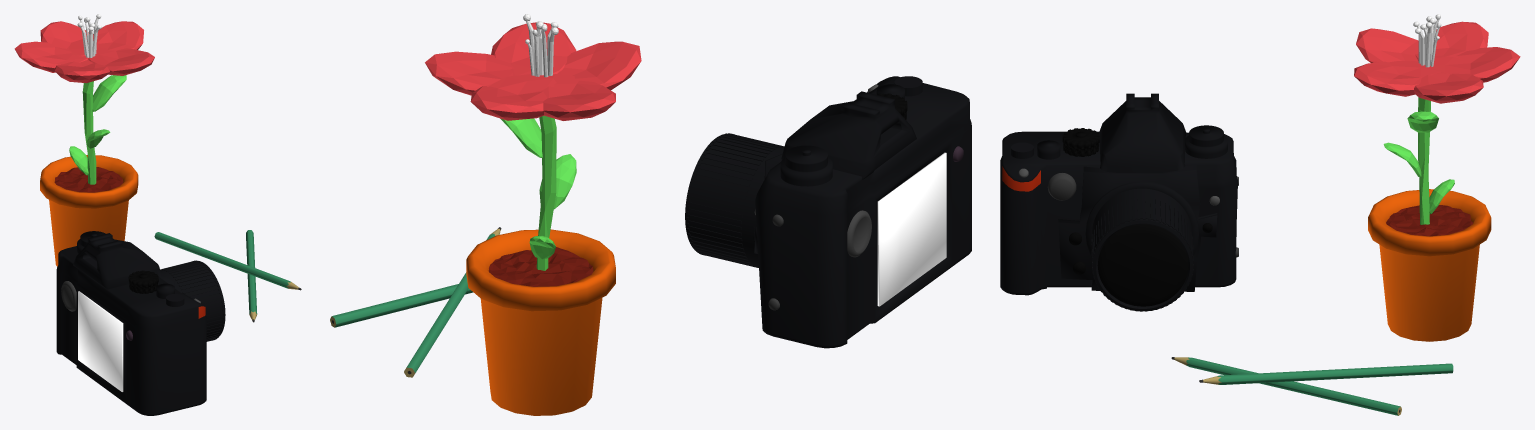
3 renders of one model, left to right at view 1: azimuth 30°, elevation 25°; view 2: azimuth 150°, elevation 25°; view 3: azimuth 270°, elevation 25°, orthographic. The views are drawn at different scales.
Parts seen in each view (by area): view 1: camera.main, Icosphere.002, Cylinder.009_0, camera.mainscreen, Plane.001, Cylinder, CRAYON_01.001, Icosphere.023, Circle.001, Cylinder_0, CRAYON_01, buton.002 (+1 smaller); view 2: camera.main, Cylinder.009_0, Icosphere.002, Cylinder, camera.mainscreen, Plane.001, Circle.001, Icosphere.023, Cylinder_0, buton.003, CRAYON_01, CRAYON_01.001 (+1 smaller); view 3: camera.main, Cylinder.009_0, Icosphere.002, buton.014, Plane.001, Plane, Cylinder, CRAYON_01.001, CRAYON_01, Circle.001, Icosphere.023, objective (+4 smaller).
Part boxes in pixels (left/top/right/bottom): camera.main: left=56, top=246, right=206, bottom=415; Icosphere.002: left=14, top=21, right=154, bottom=83; Cylinder.009_0: left=40, top=155, right=138, bottom=266; camera.mainscreen: left=78, top=291, right=123, bottom=391; Plane.001: left=73, top=233, right=162, bottom=289; Cylinder: left=160, top=260, right=225, bottom=341; CRAYON_01.001: left=154, top=232, right=301, bottom=290; Icosphere.023: left=69, top=75, right=126, bottom=175; Circle.001: left=54, top=167, right=123, bottom=192; Cylinder_0: left=82, top=81, right=96, bottom=184; CRAYON_01: left=246, top=230, right=257, bottom=322; buton.002: left=128, top=270, right=158, bottom=293; camera.main: left=755, top=76, right=971, bottom=348; Cylinder.009_0: left=466, top=229, right=615, bottom=415; Icosphere.002: left=425, top=22, right=641, bottom=120; Cylinder: left=685, top=133, right=784, bottom=267; camera.mainscreen: left=877, top=152, right=946, bottom=306; Plane.001: left=781, top=91, right=916, bottom=179; Circle.001: left=488, top=247, right=593, bottom=286; Icosphere.023: left=500, top=118, right=576, bottom=259; Cylinder_0: left=536, top=115, right=556, bottom=270; buton.003: left=780, top=145, right=832, bottom=186; CRAYON_01: left=330, top=284, right=473, bottom=327; CRAYON_01.001: left=404, top=227, right=501, bottom=377; camera.main: left=1000, top=131, right=1237, bottom=295; Cylinder.009_0: left=1368, top=189, right=1491, bottom=341; Icosphere.002: left=1354, top=21, right=1520, bottom=103; buton.014: left=1097, top=224, right=1188, bottom=306; Plane.001: left=1099, top=93, right=1186, bottom=172; Plane: left=1058, top=164, right=1217, bottom=291; Cylinder: left=1091, top=188, right=1193, bottom=311; CRAYON_01.001: left=1199, top=363, right=1453, bottom=384; CRAYON_01: left=1171, top=357, right=1401, bottom=415; Circle.001: left=1386, top=205, right=1473, bottom=236; Icosphere.023: left=1383, top=111, right=1454, bottom=214; objective: left=1085, top=181, right=1198, bottom=256.
Bounding box in the file's own units: 2.43 × 2.14 × 3.27.
